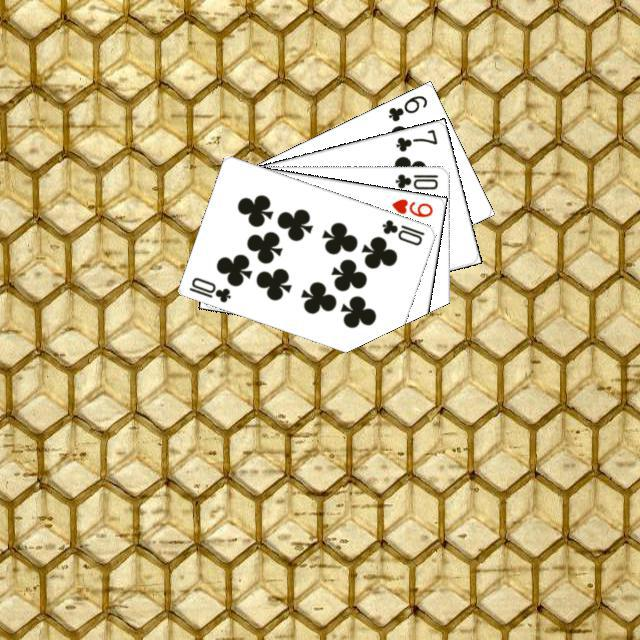10c: (377, 214, 426, 247), (184, 272, 233, 304), (391, 169, 439, 191)
6c: (383, 90, 429, 123)
7c: (391, 124, 439, 153)
9h: (386, 194, 434, 219)
